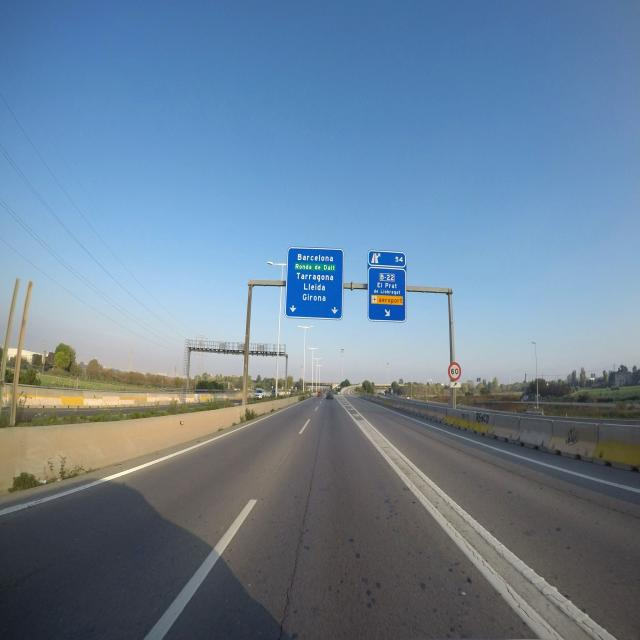car: (254, 387, 266, 400), (325, 390, 334, 400)
